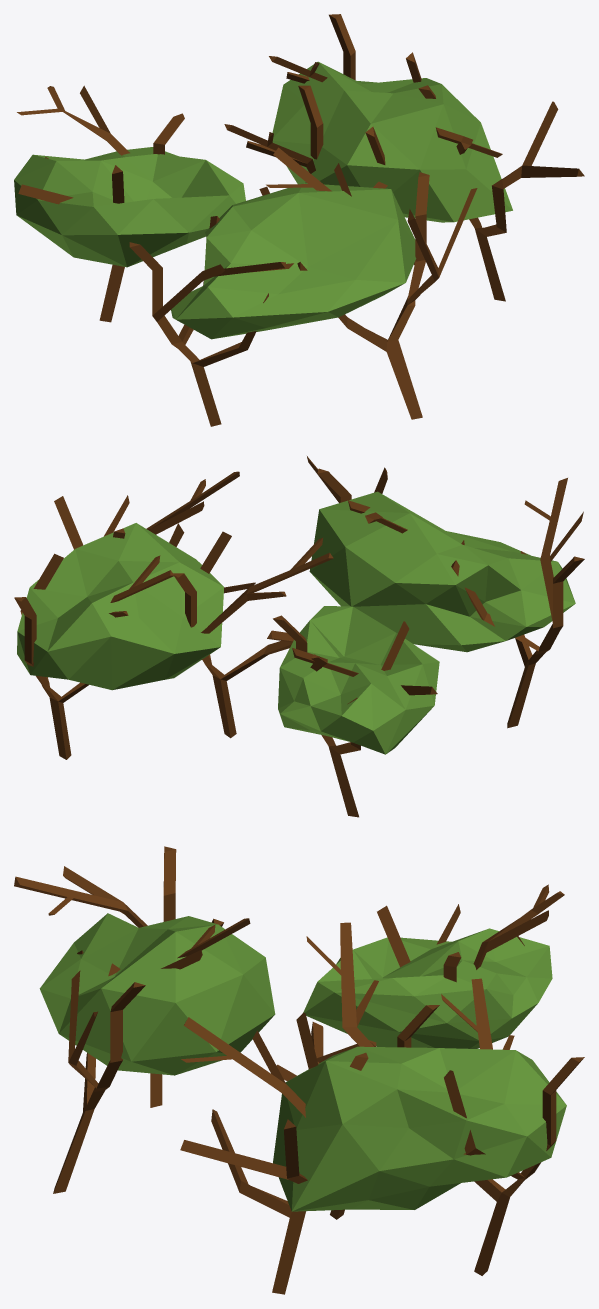
The model's file is suur poosas surev.fbx.
3 renders of one model, top to bottom at view 1: azimuth 30°, elevation 25°; view 2: azimuth 150°, elevation 25°; view 3: azimuth 270°, elevation 25°, orthographic. The views are drawn at different scales.
Visible parts, largest first — view 1: raagussuur.001; view 2: raagussuur.001; view 3: raagussuur.001.
Boxes of the visible parts, <box> form: raagussuur.001: <box>14,14,584,426</box>; raagussuur.001: <box>14,456,584,817</box>; raagussuur.001: <box>14,846,584,1294</box>.
Size of the model in its own units: 234 by 102 by 215.
